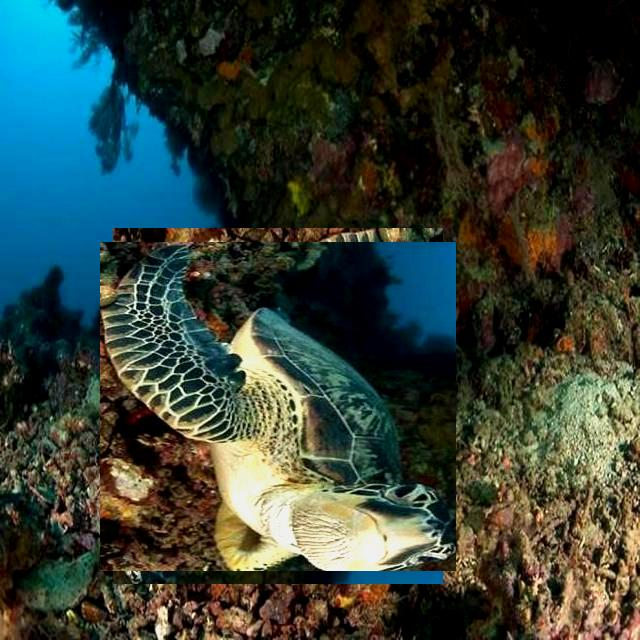Sea turtle: (107, 235, 450, 577)
